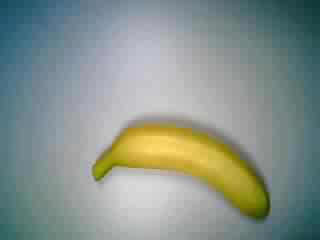banana: (90, 119, 274, 222)
